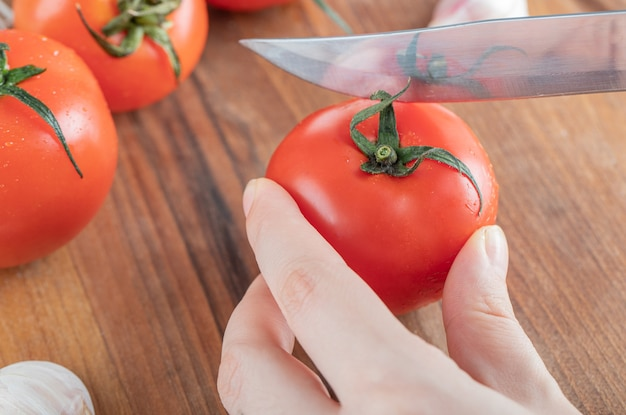knife: (234, 10, 626, 104)
